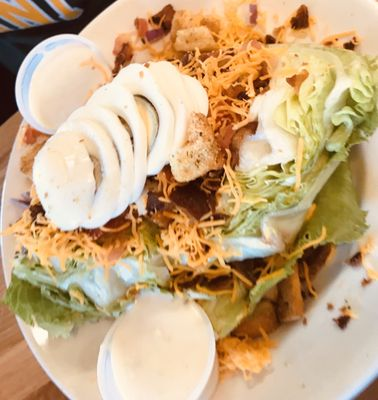pizza: (97, 290, 219, 400)
